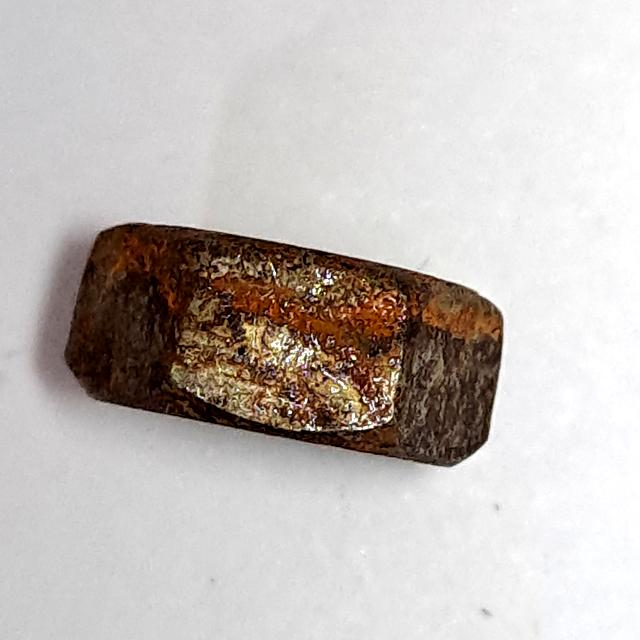Side_Rust: (53, 207, 522, 495)
